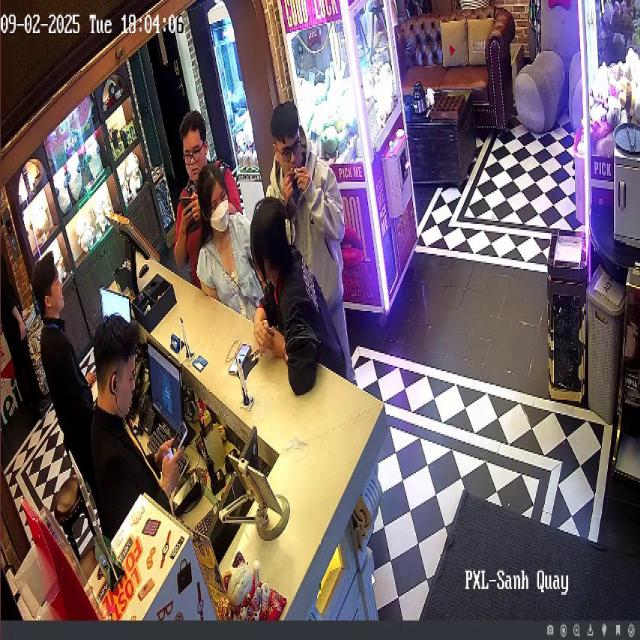khach: (258, 82, 376, 396), (247, 188, 370, 424), (192, 149, 265, 386), (165, 104, 242, 301)
nhan vien: (85, 302, 178, 587), (32, 232, 92, 460)
